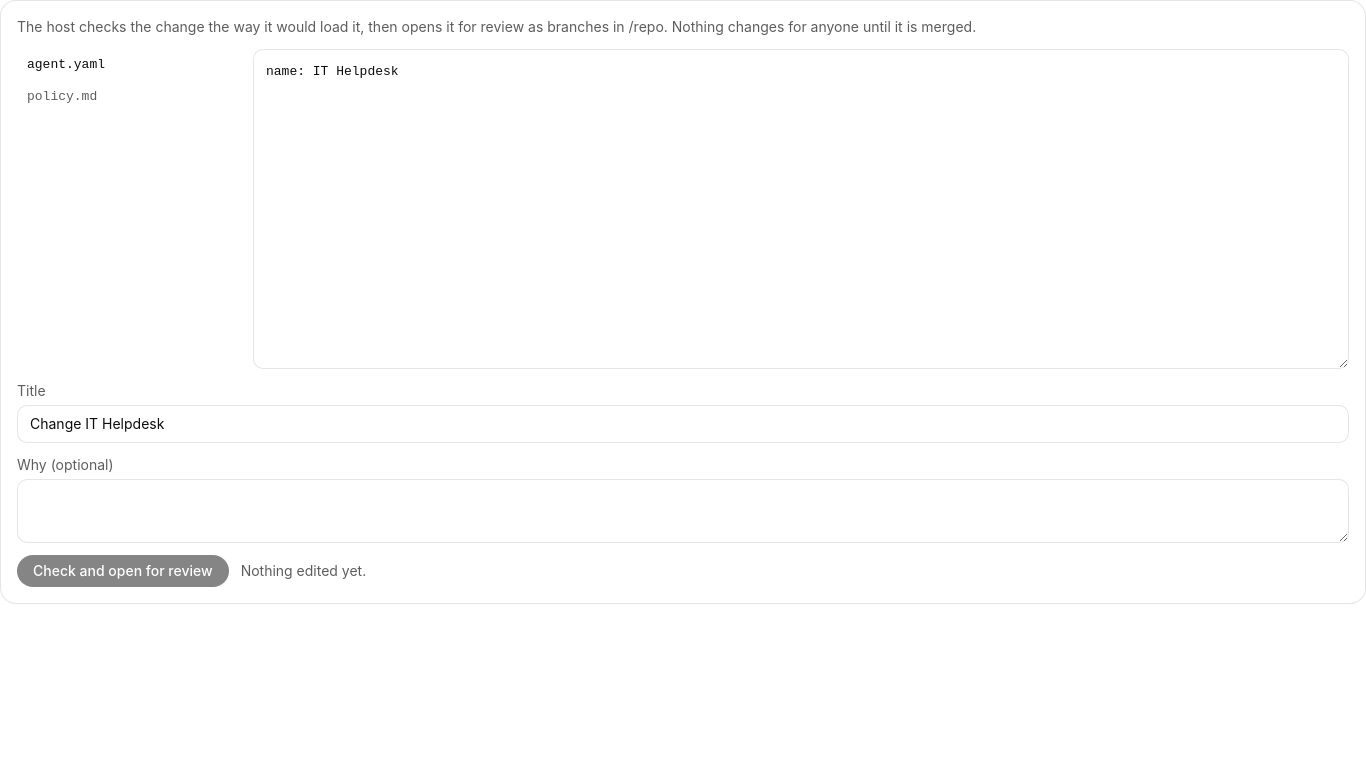
Test: Proposing a change › shows every reason a change the host would not load was refused
This screenshot has width=1366, height=768.
Type "limts: 3" into the text box named "Contents of agents/helpdesk/agent.yaml" at (801, 209), box 253,49 -> 1349,369
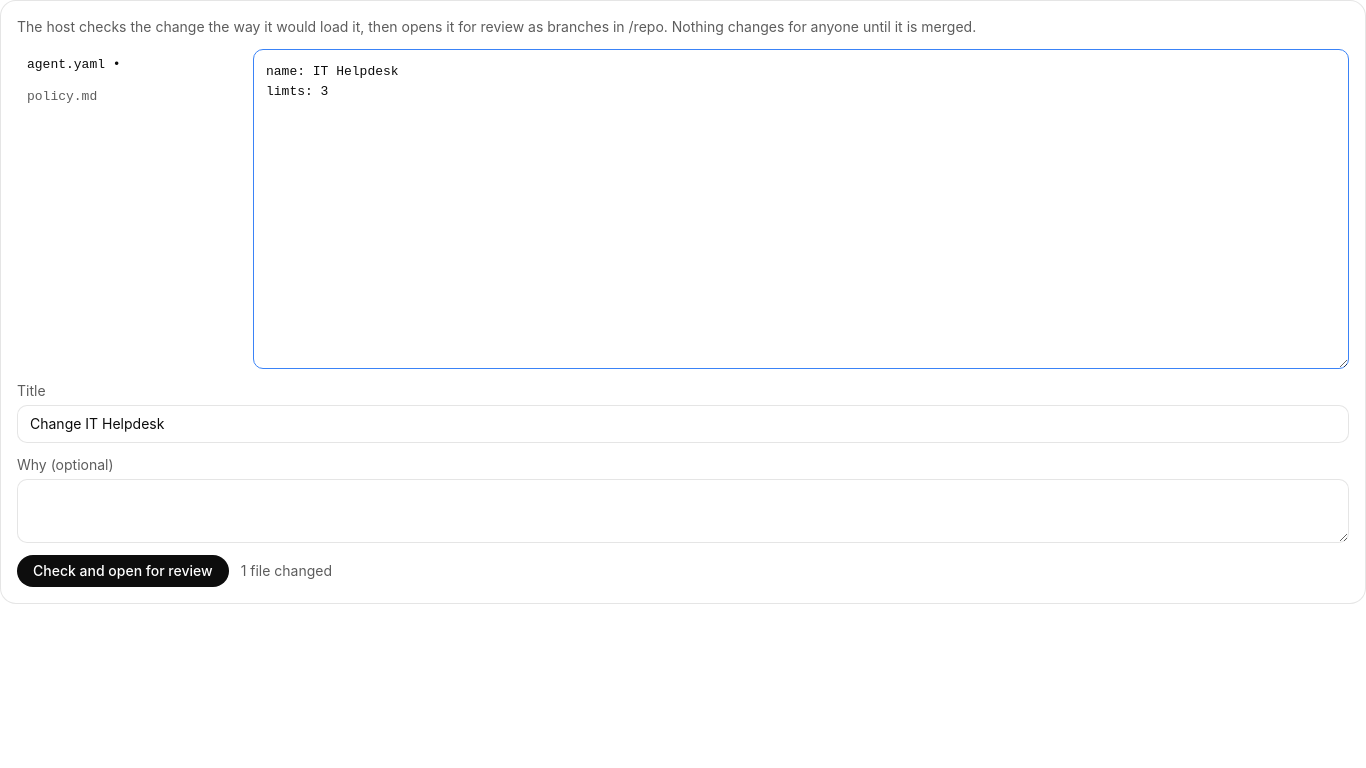
Click the button "Check and open for review" at (123, 571), box 17,555 -> 229,587
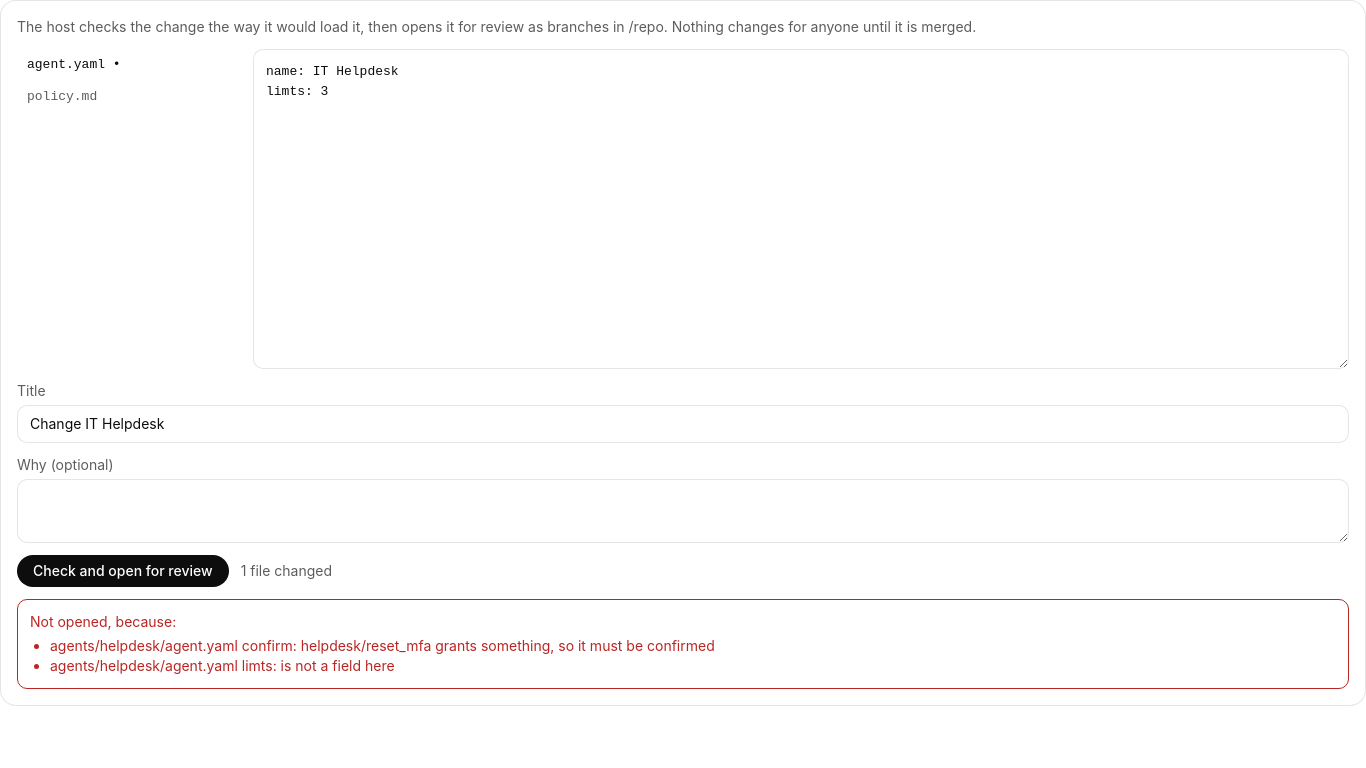
Expected: the message shows "Not opened, because:", 30,613 -> 176,630
Expected: the message shows "grants something, so it must be confirmed", 50,637 -> 715,654
Expected: the message shows "limts: is not a field here", 50,657 -> 395,674
